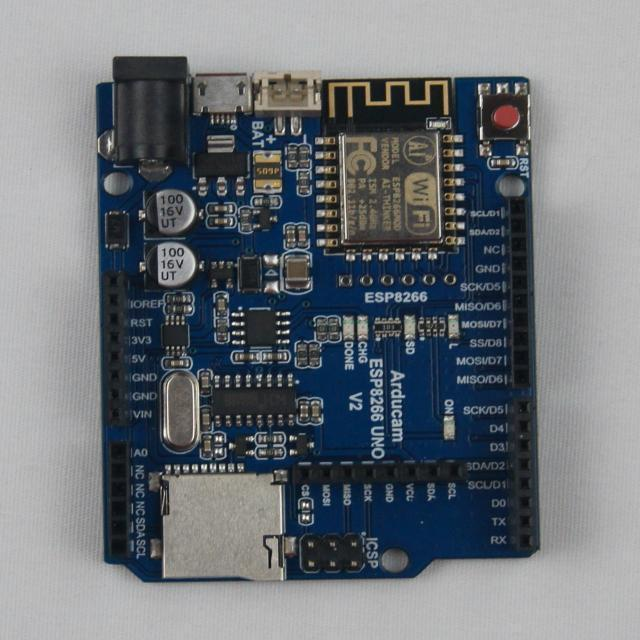Arduino Uno Camera Shield: (97, 59, 540, 582)
